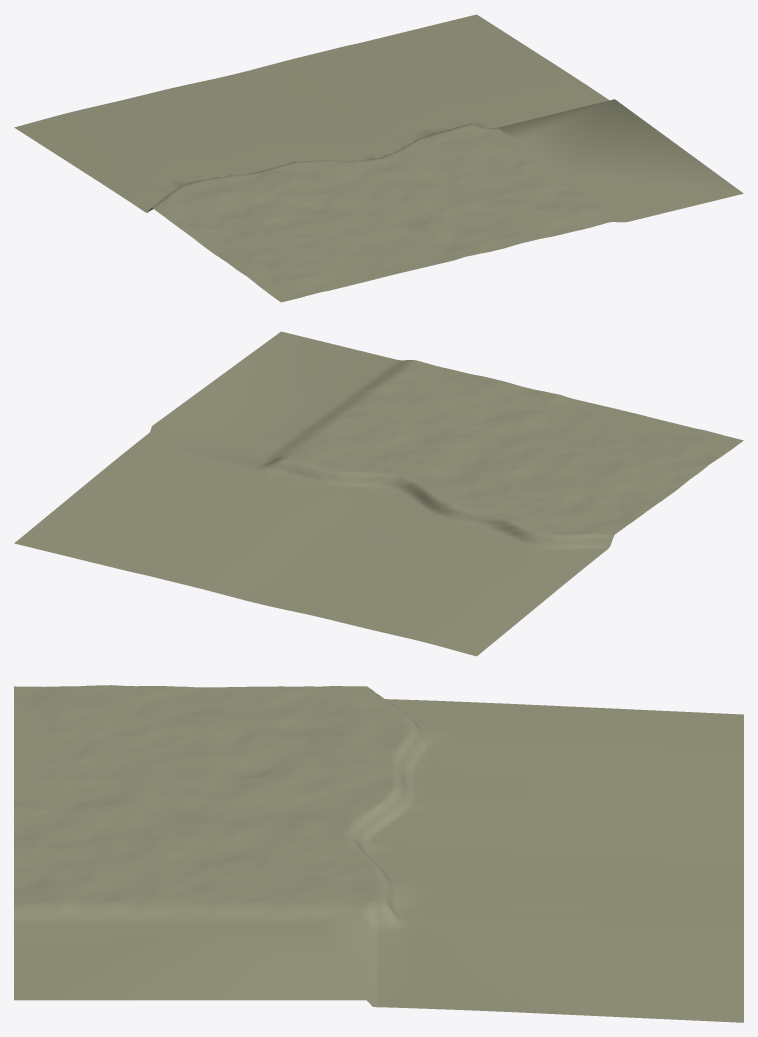
File: SM_VB_CityTerrain_0_2.fbx
3 views of the same model, one above another, from view 1: azimuth 30°, elevation 25°; view 2: azimuth 150°, elevation 25°; view 3: azimuth 270°, elevation 25° (orthographic). The views are drawn at different scales.
Parts seen in each view (by area): view 1: SM_VB_CityTerrain_0_2; view 2: SM_VB_CityTerrain_0_2; view 3: SM_VB_CityTerrain_0_2.
Boxes of the visible parts, x1,y1,x2,y2 form: SM_VB_CityTerrain_0_2: (14,14,743,302); SM_VB_CityTerrain_0_2: (14,331,743,656); SM_VB_CityTerrain_0_2: (14,685,743,1022).
Size of the model in its own units: 600 by 27.78 by 600.
